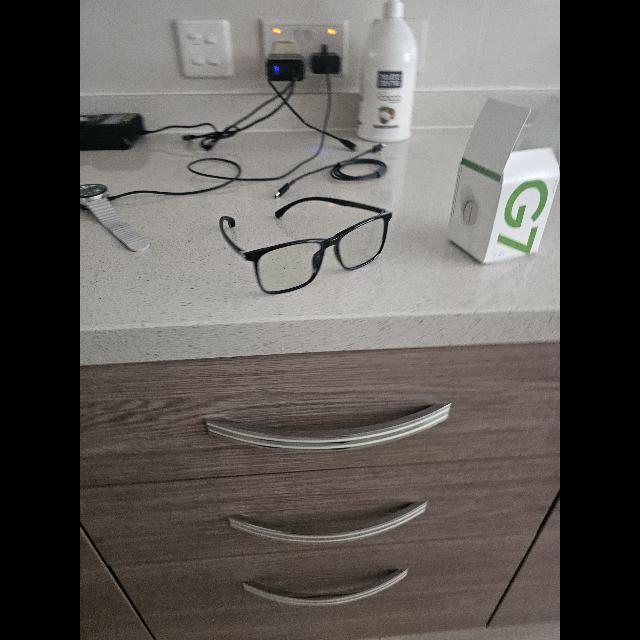glasses: (220, 196, 392, 294)
